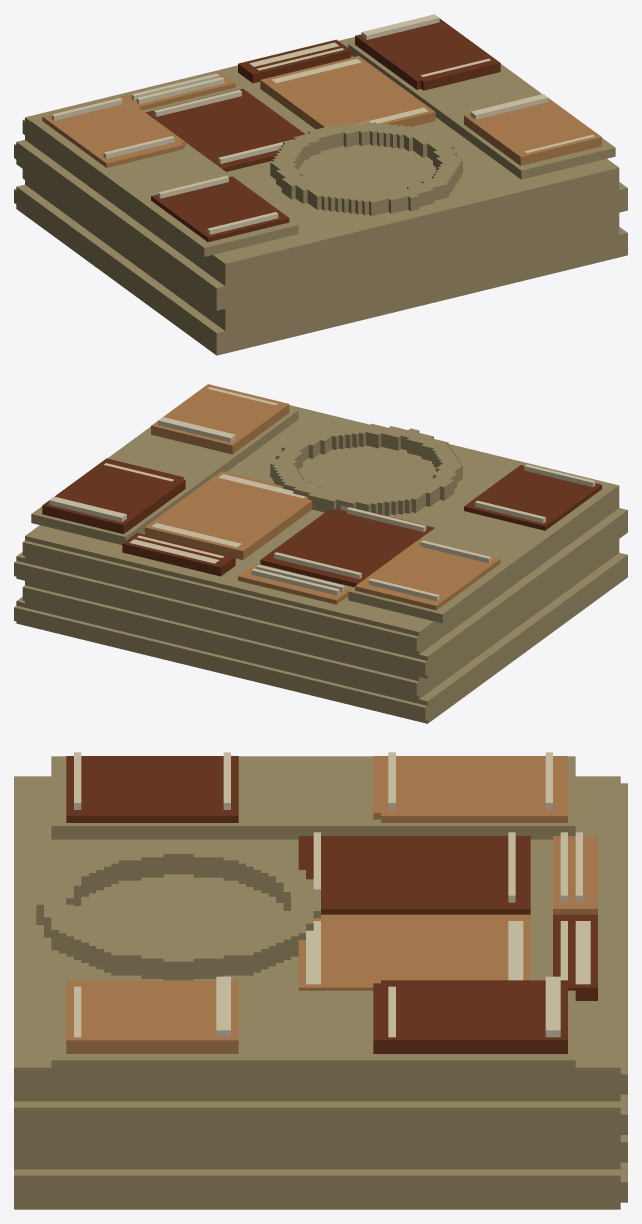
File: survivor_adhoc_leather_shirt.glb
The picture shows the model from 3 angles, top to bottom: view 1: azimuth 30°, elevation 25°; view 2: azimuth 150°, elevation 25°; view 3: azimuth 270°, elevation 25°; orthographic projection. The views are drawn at different scales.
Parts seen in each view (by area): view 1: survivor_adhoc_leather_shirt:compound; view 2: survivor_adhoc_leather_shirt:compound; view 3: survivor_adhoc_leather_shirt:compound.
Part boxes in pixels (bbox=[...]): survivor_adhoc_leather_shirt:compound: bbox=[14, 14, 627, 355]; survivor_adhoc_leather_shirt:compound: bbox=[14, 384, 627, 723]; survivor_adhoc_leather_shirt:compound: bbox=[14, 752, 627, 1209].
Size of the model in its own units: 0.384 by 0.1 by 0.328.
